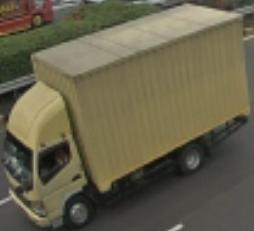truck: (1, 76, 101, 230)
